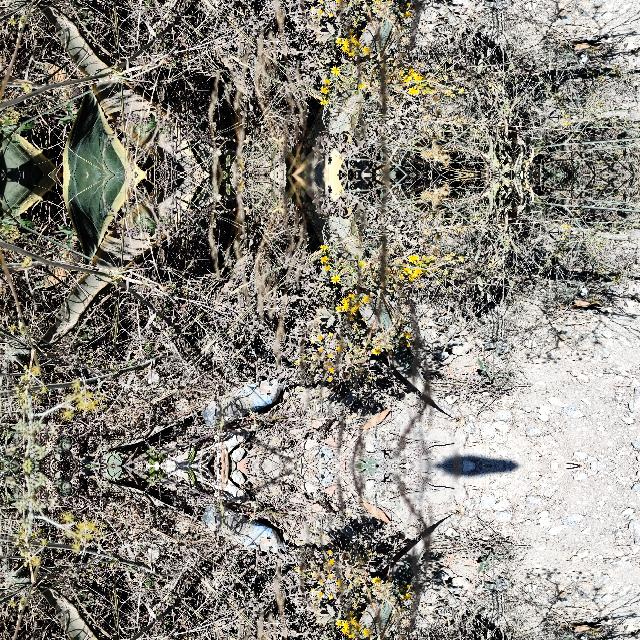Plastic: (197, 373, 289, 431), (197, 500, 289, 558)
